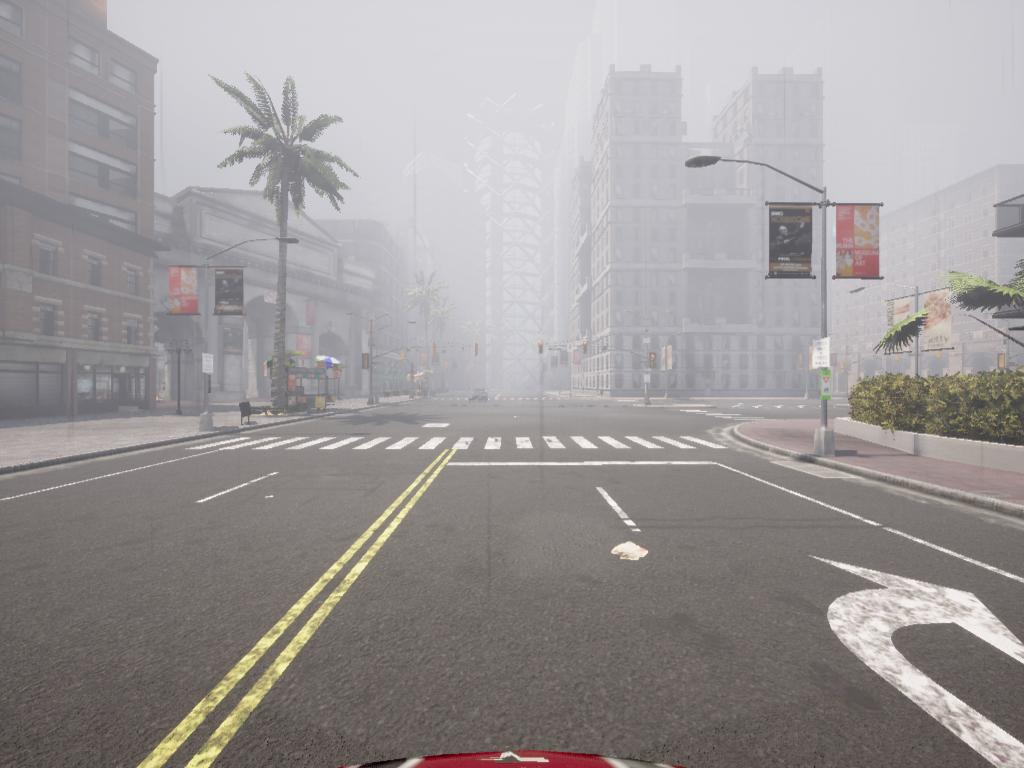traffic_light: (650, 355, 661, 368), (539, 343, 547, 356), (431, 343, 438, 357), (584, 340, 589, 354), (475, 343, 479, 358), (401, 350, 405, 362)
